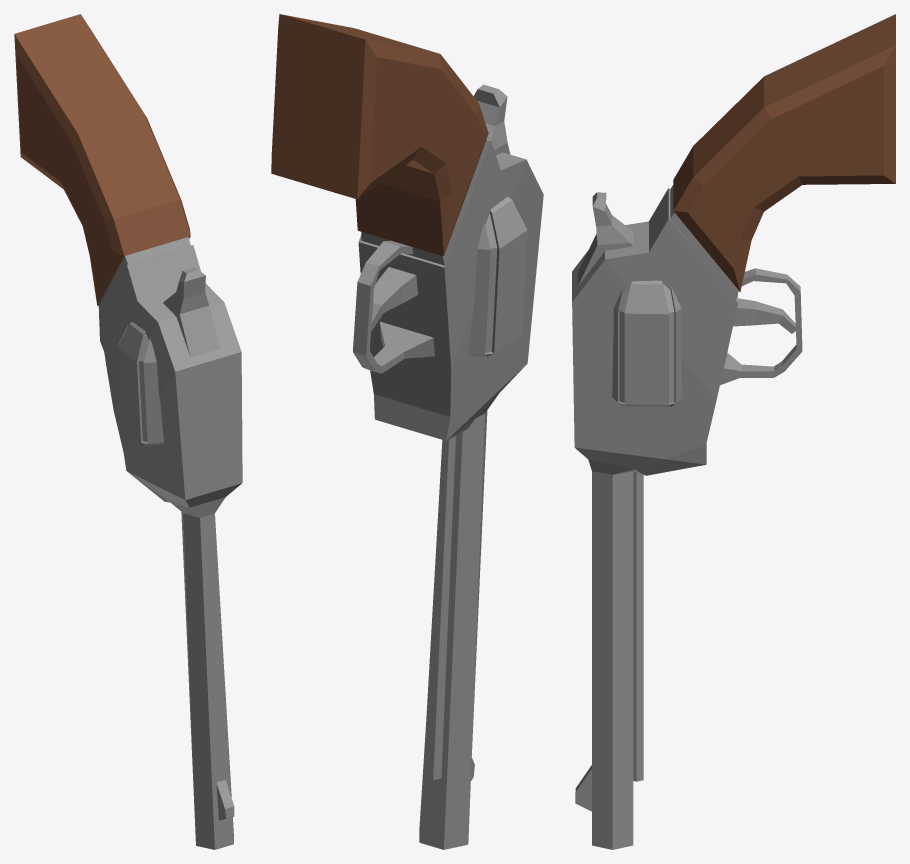
File: Sheriff_Gun.fbx
3 renders of one model, left to right at view 1: azimuth 30°, elevation 25°; view 2: azimuth 150°, elevation 25°; view 3: azimuth 270°, elevation 25°, orthographic. The views are drawn at different scales.
Visible parts, largest first — view 1: Sheriff_Gun; view 2: Sheriff_Gun; view 3: Sheriff_Gun.
Part boxes in pixels (x1,y1,x2,y2): Sheriff_Gun: [14, 14, 242, 849]; Sheriff_Gun: [271, 14, 543, 849]; Sheriff_Gun: [572, 14, 895, 849].
Bounding box in the file's own units: 5.03 × 35.56 × 13.13.
